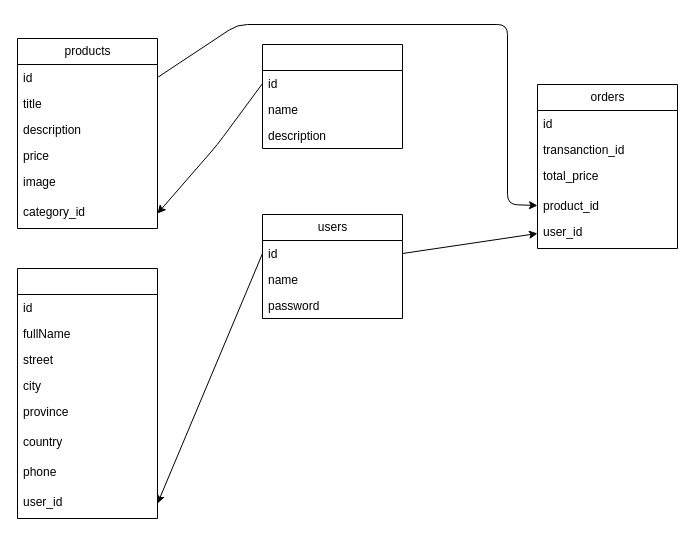
The diagram is 695 pixels wide and 539 high, and some of its shapes have lost their labels. The shapes that lost their labels are listed below. From the top down, each one's box as (x1, y1, x2, y2) in pixels, then its label:
(262, 44, 402, 148): categories
(16, 268, 158, 518): addresses
